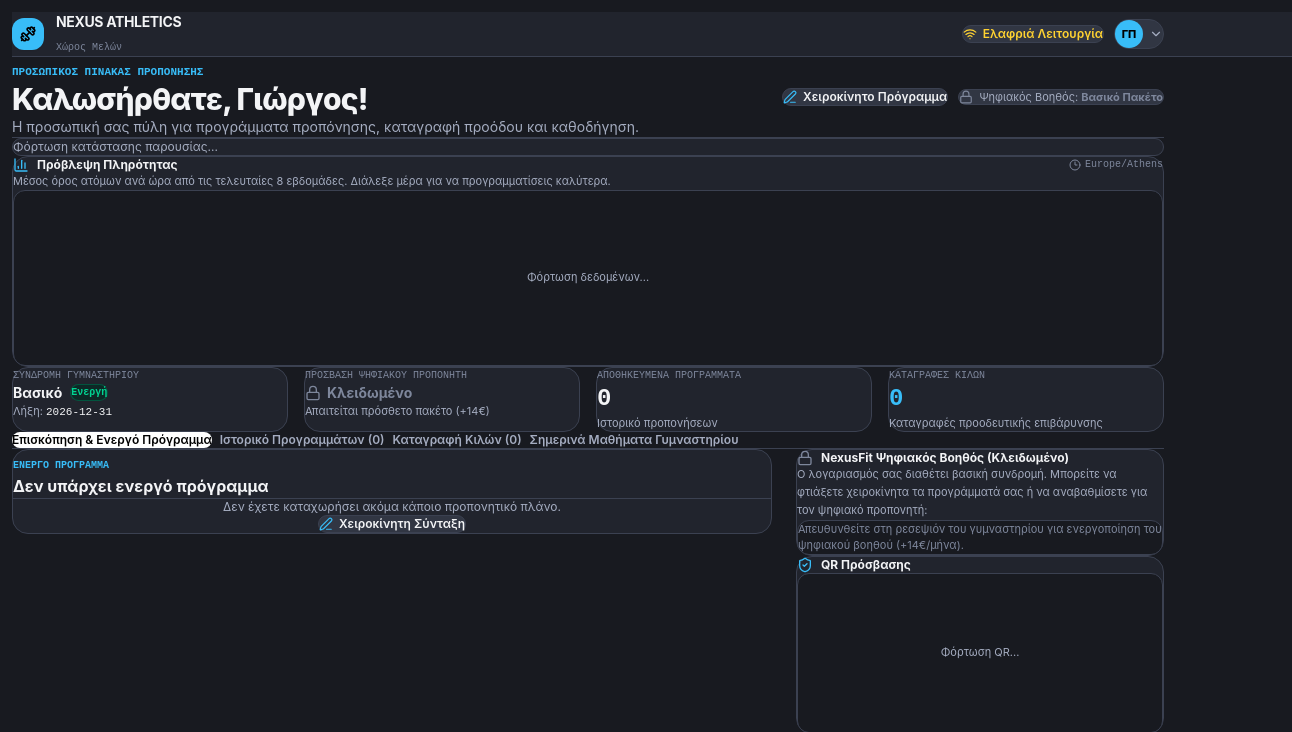
Scenario: MemberPortalPage (the member's home screen) › shows only today's classes in the schedule tab, and says so when there are none
What coordinates should you click on to do the following:
click the button "Σημερινά Μαθήματα Γυμναστηρίου"
I would click on:
 (634, 440)
Its box is [530,432,738,448].
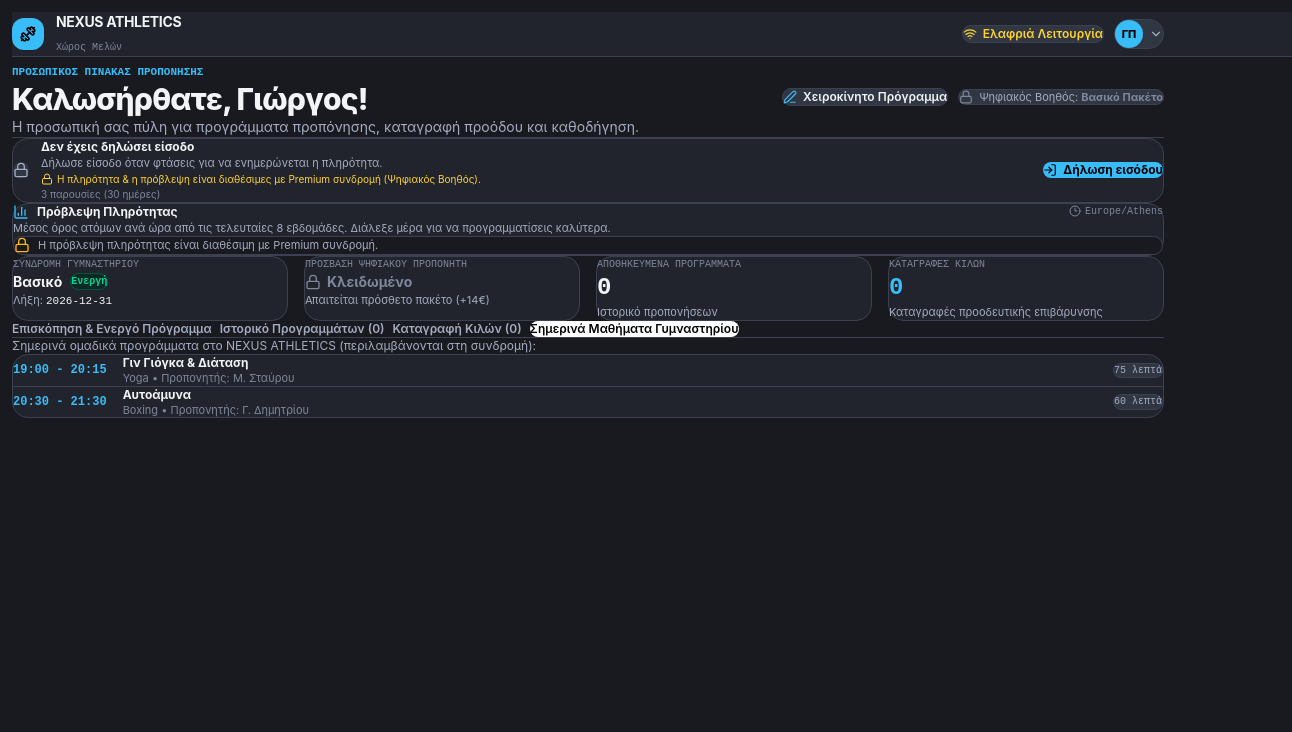
expect the text "Γιν Γιόγκα & Διάταση" is shown: met, box [123,355,248,370]
expect the text "Αυτοάμυνα" is shown: met, box [123,387,191,402]
